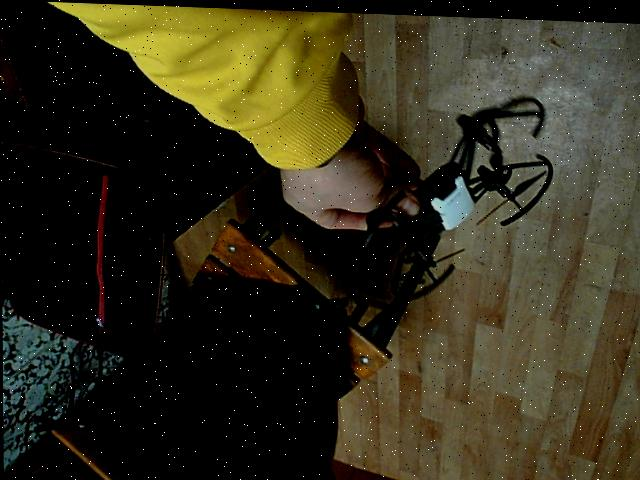drone: (337, 80, 569, 306)
